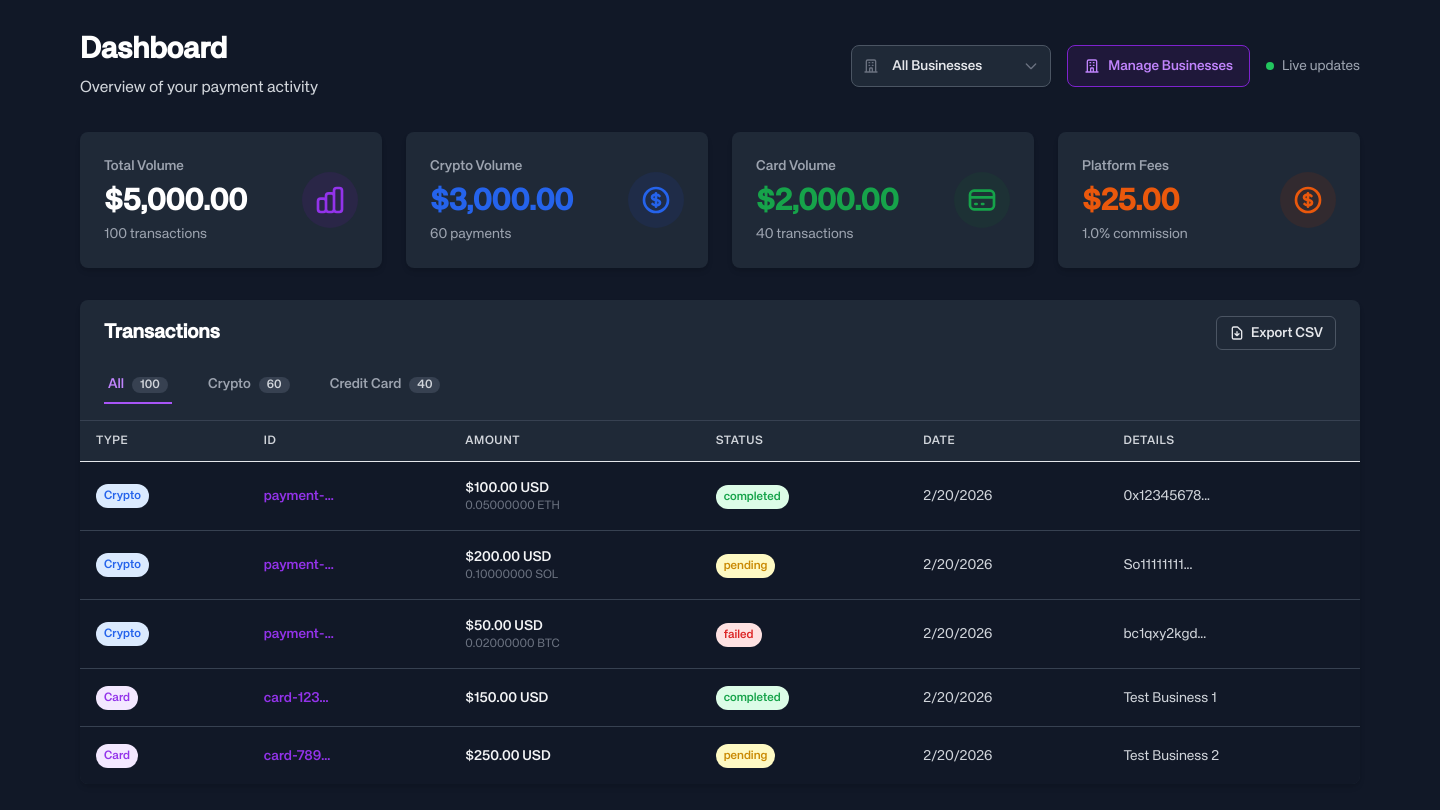
Scenario: DashboardPage › Card Tab Transactions › should handle null stripe_charge_id gracefully
What coordinates should you click on to do the following:
click the button "Credit Card40"
I would click on:
 (385, 385)
Its box is [326, 366, 444, 404].
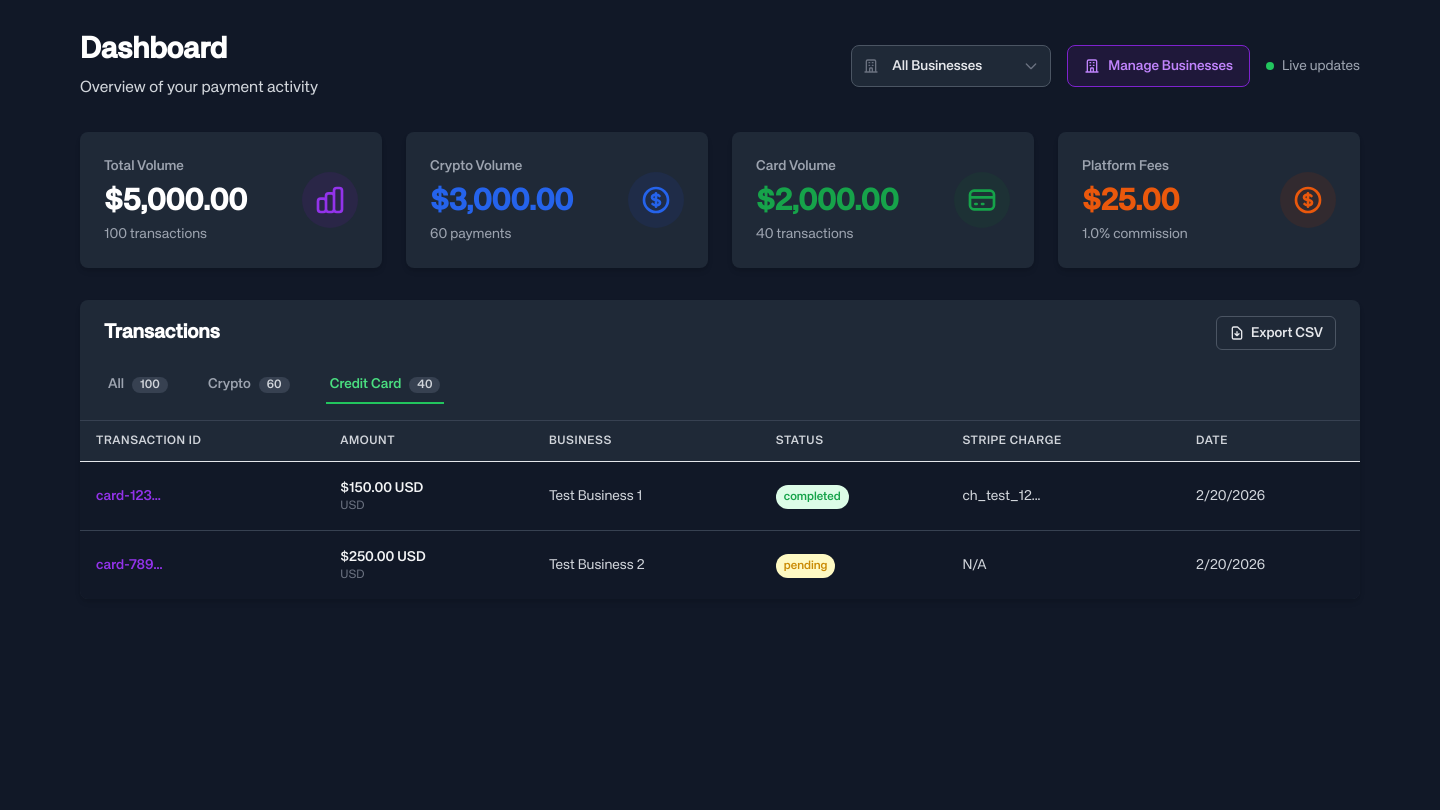
Expected: the text "N/A" is shown, [946, 530, 1180, 599]
